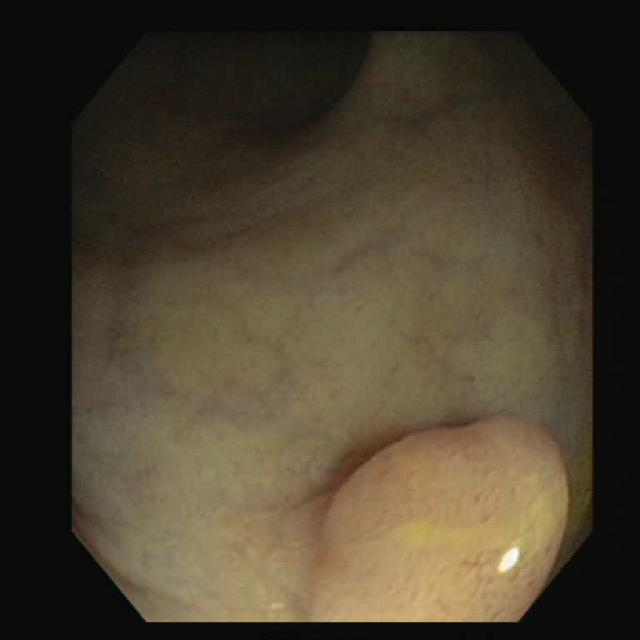tumor: (307, 418, 570, 620)
